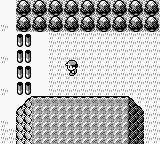main: (65, 61, 78, 75)
no-caminable: (15, 97, 144, 143), (16, 0, 159, 32), (17, 32, 31, 95)
